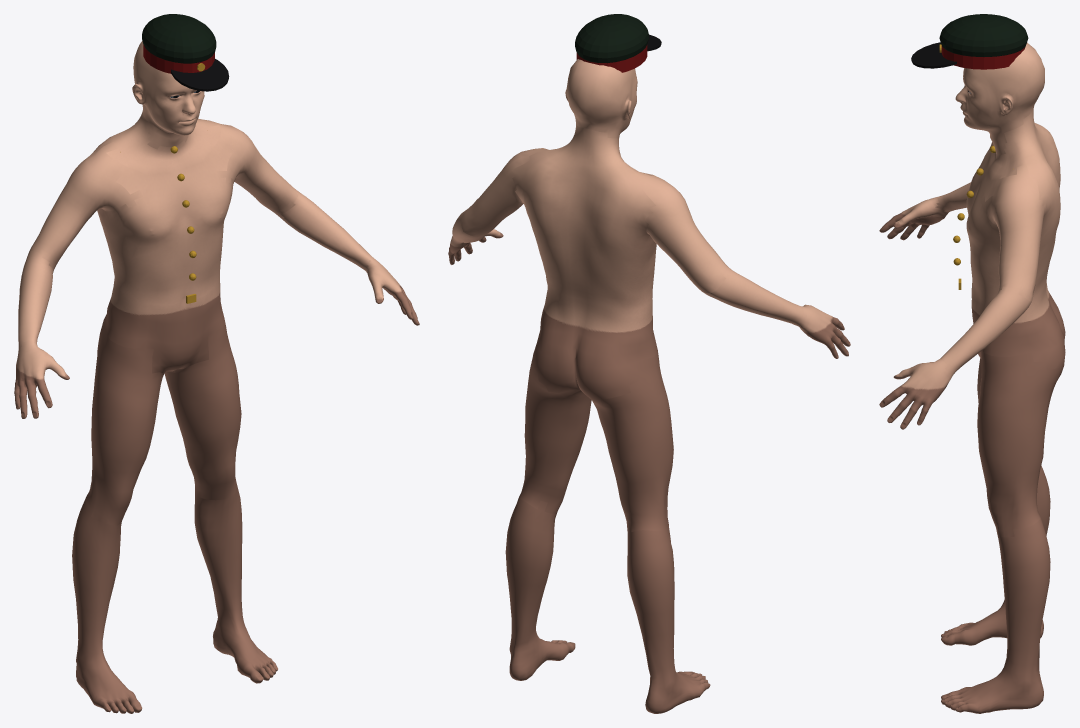
The model's file is nicholas_uniform.obj.
3 views of the same model, side by side, from view 1: azimuth 30°, elevation 25°; view 2: azimuth 150°, elevation 25°; view 3: azimuth 270°, elevation 25° (orthographic).
Visible parts, largest first — view 1: torso, thigh_r, head, thigh_l, shin_r, shin_l, upperarm_r, upperarm_l, forearm_l, forearm_r, hand_r, hand_l; view 2: torso, thigh_r, head, shin_r, shin_l, thigh_l, upperarm_r, upperarm_l, forearm_r, hand_r; view 3: torso, thigh_l, head, shin_l, upperarm_l, forearm_l, hand_l, shin_r, hand_r, forearm_r.
Boxes of the visible parts, box(x1,y1,x2,y2) form: torso: box(93, 112, 234, 373); thigh_r: box(85, 329, 163, 525); head: box(120, 14, 229, 152); thigh_l: box(164, 323, 241, 500); shin_r: box(72, 498, 142, 713); shin_l: box(194, 485, 277, 683); upperarm_r: box(28, 142, 142, 269); upperarm_l: box(202, 120, 298, 218); forearm_l: box(281, 189, 371, 270); forearm_r: box(18, 251, 53, 353); hand_r: box(14, 340, 69, 418); hand_l: box(364, 257, 419, 325); torso: box(512, 125, 657, 404); thigh_r: box(592, 350, 673, 534); head: box(565, 14, 661, 138); shin_r: box(627, 522, 710, 713); shin_l: box(505, 498, 575, 680); thigh_l: box(519, 361, 591, 521); upperarm_r: box(635, 171, 727, 295); upperarm_l: box(461, 148, 548, 239); forearm_r: box(704, 266, 809, 328); hand_r: box(800, 304, 850, 358); torso: box(953, 109, 1065, 375); thigh_l: box(977, 351, 1060, 537); head: box(911, 14, 1044, 169); shin_l: box(941, 518, 1050, 713); upperarm_l: box(980, 164, 1045, 301); forearm_l: box(940, 286, 1031, 379); hand_l: box(879, 358, 950, 429); shin_r: box(941, 466, 1050, 645); hand_r: box(879, 195, 948, 240); forearm_r: box(935, 182, 971, 212).
Bounding box in the file's own units: 1.09 × 1.75 × 0.45.
Materials: 17 (2 with a texture image).
